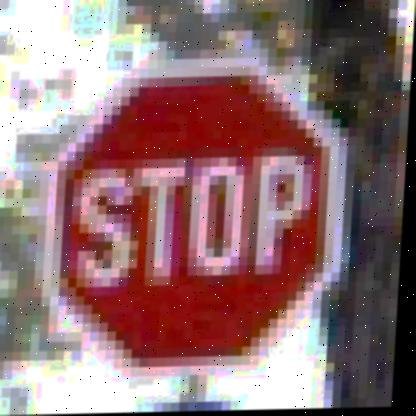Stop Sign: (39, 54, 361, 383)
